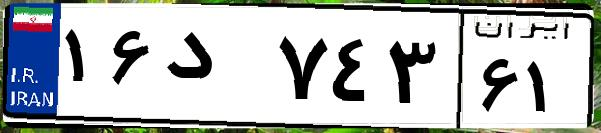1: (57, 26, 110, 100), (525, 38, 570, 115)
3: (385, 28, 445, 110)
4: (330, 28, 385, 110)
6: (475, 38, 525, 113), (110, 28, 158, 98)
7: (270, 28, 330, 110)
د: (158, 20, 270, 120)
